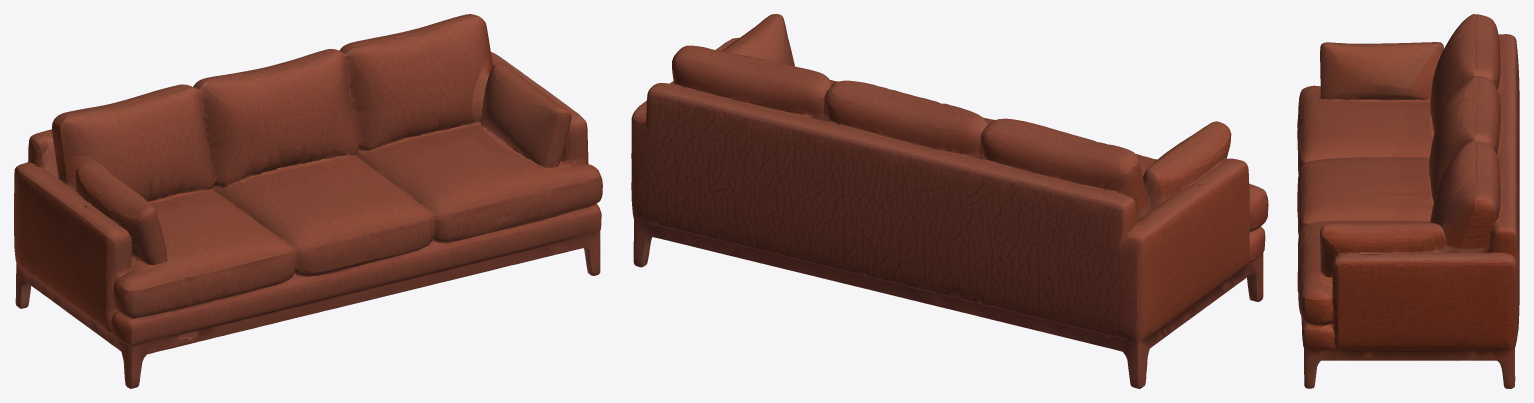
Rendered from L_SOFA_3.industrial.glb.
The picture shows the model from 3 angles, left to right: view 1: azimuth 30°, elevation 25°; view 2: azimuth 150°, elevation 25°; view 3: azimuth 270°, elevation 25°; orthographic projection. The views are drawn at different scales.
Parts seen in each view (by area): view 1: geometry_0; view 2: geometry_0; view 3: geometry_0.
Part boxes in pixels (x1,y1,x2,y2): geometry_0: (14,14,602,388); geometry_0: (631,14,1268,388); geometry_0: (1297,14,1519,388).
Bounding box in the file's own units: 2.2 × 0.8559 × 0.9566.
1 material, 1 textured.
